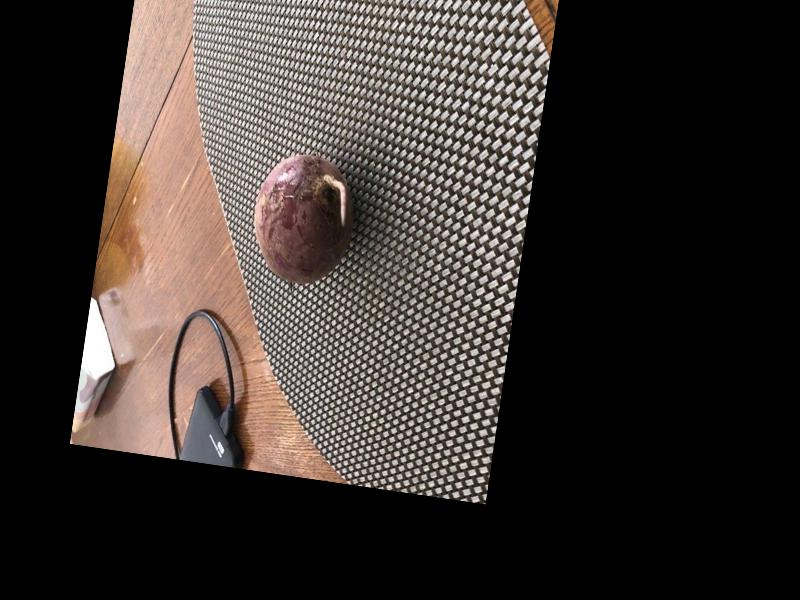Beet: (245, 148, 361, 290)
